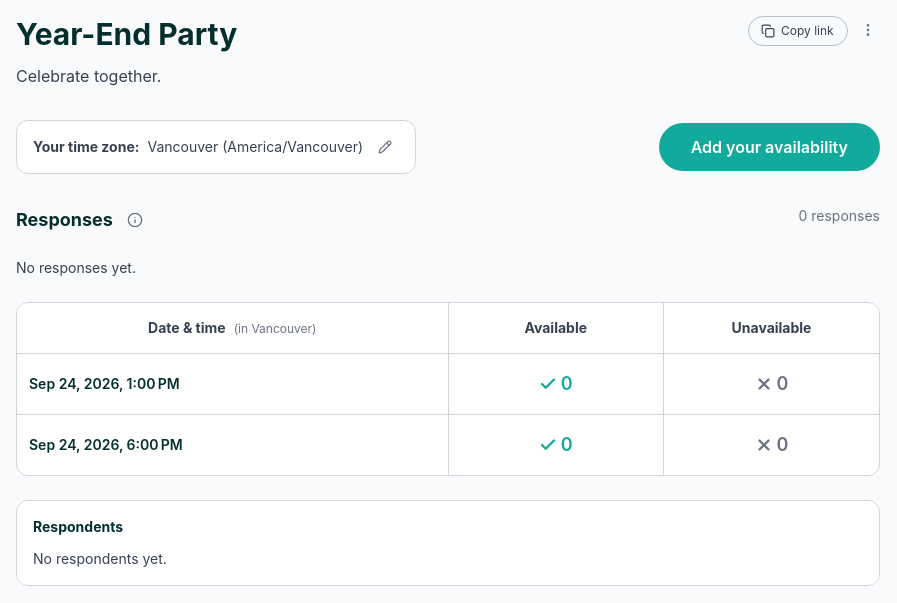
it: EventDetailPage › shows a copied confirmation in the link button
The width and height of the screenshot is (897, 603).
Click the button "Copy link".
click(798, 31)  # box [748,16,848,46]
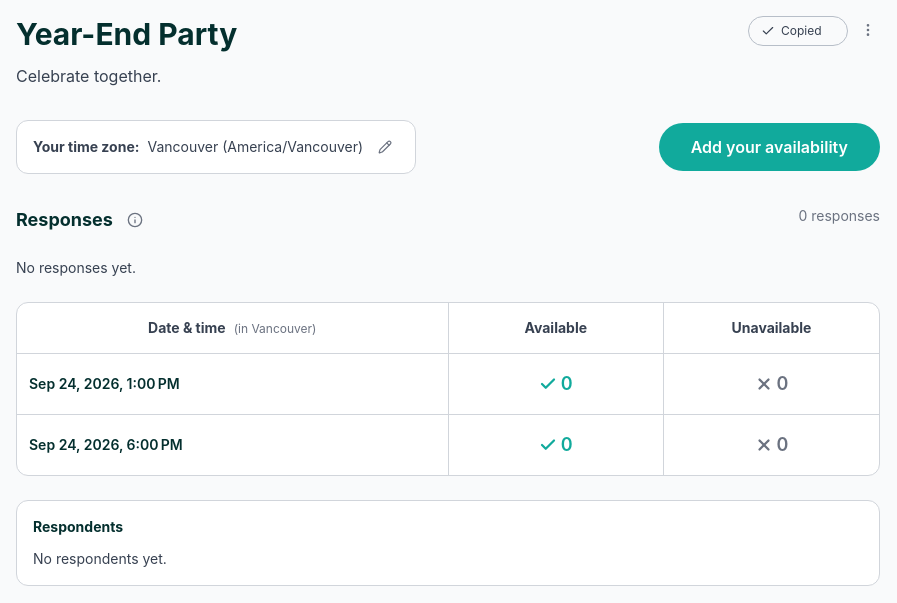
Expected: the text "Copied" is shown, [781,23,822,39]
